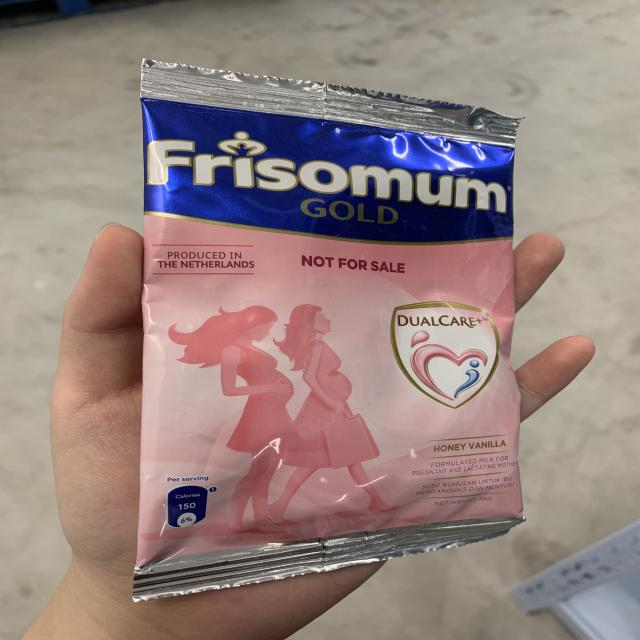object_name: (146, 69, 521, 543)
